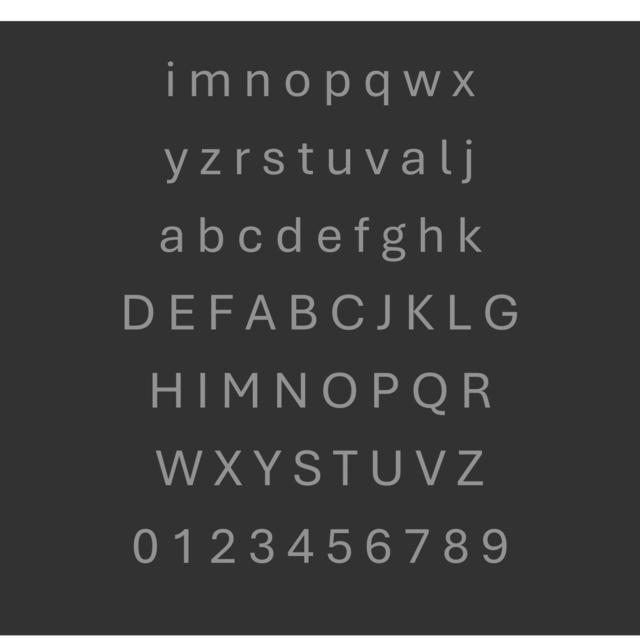alphabet: (412, 372, 448, 418), (155, 449, 193, 487), (483, 294, 518, 335), (223, 372, 260, 410), (332, 294, 365, 334), (170, 449, 203, 487), (324, 373, 358, 409), (415, 449, 447, 487), (124, 294, 156, 332), (276, 372, 307, 410), (212, 448, 242, 487), (244, 294, 274, 331), (255, 448, 284, 486), (192, 71, 231, 98), (154, 372, 182, 409), (295, 449, 322, 487), (170, 295, 197, 332), (482, 527, 508, 565), (457, 449, 483, 487), (372, 372, 399, 408), (404, 72, 440, 99), (463, 372, 489, 409), (164, 149, 190, 186), (367, 526, 392, 564), (409, 294, 434, 332), (328, 526, 353, 564), (333, 450, 359, 486), (290, 295, 316, 331), (365, 69, 391, 105), (210, 527, 235, 564), (276, 217, 300, 254), (327, 69, 351, 106), (201, 217, 224, 254), (406, 528, 431, 562), (286, 527, 310, 561), (460, 217, 482, 254), (210, 295, 233, 330), (421, 218, 443, 254), (284, 71, 310, 98), (364, 149, 389, 176), (317, 228, 341, 255), (174, 527, 192, 563), (161, 227, 184, 254), (329, 149, 352, 176), (264, 149, 286, 177), (452, 72, 475, 98), (403, 149, 425, 176), (246, 71, 268, 98), (240, 227, 262, 254), (200, 150, 222, 177), (299, 142, 316, 175), (355, 217, 370, 254), (378, 294, 392, 330), (462, 139, 472, 185), (236, 147, 252, 175), (442, 138, 451, 174), (200, 372, 208, 408)
